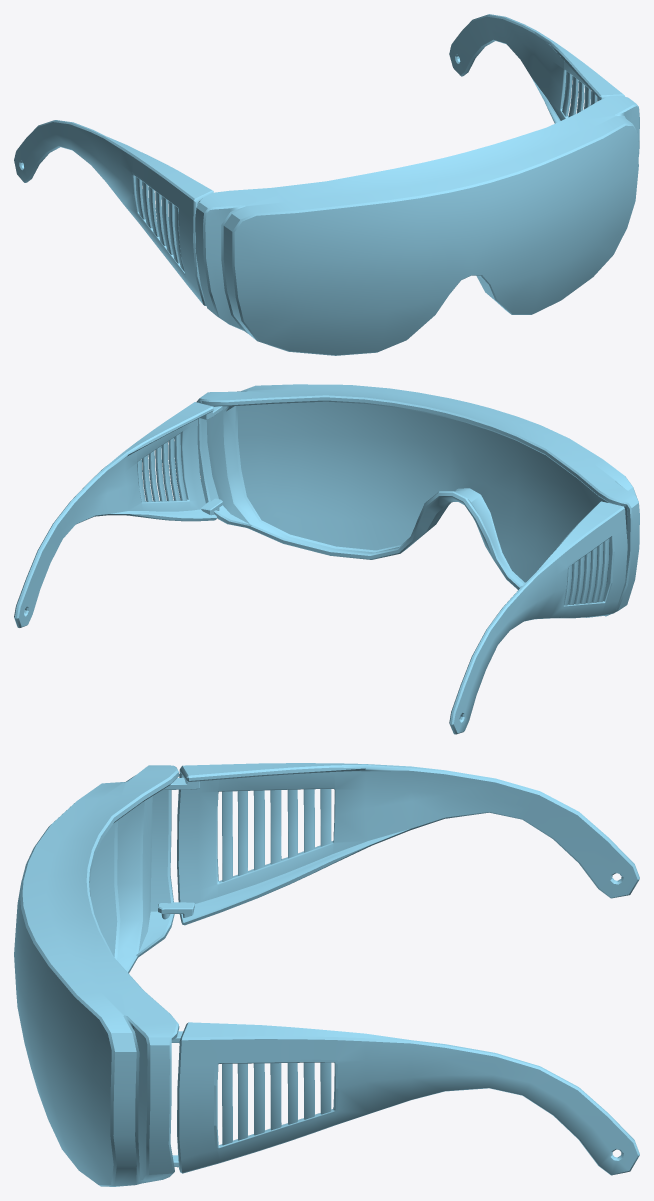
File: FBX_Mechnic_SafetyGlasses.fbx
The picture shows the model from 3 angles, top to bottom: view 1: azimuth 30°, elevation 25°; view 2: azimuth 150°, elevation 25°; view 3: azimuth 270°, elevation 25°; orthographic projection. The views are drawn at different scales.
Visible parts, largest first — view 1: SM_Mechnic_SafetyGlasses; view 2: SM_Mechnic_SafetyGlasses; view 3: SM_Mechnic_SafetyGlasses.
Part boxes in pixels (x1,y1,x2,y2): SM_Mechnic_SafetyGlasses: (14,14,639,355); SM_Mechnic_SafetyGlasses: (14,384,639,734); SM_Mechnic_SafetyGlasses: (14,763,639,1186).
Size of the model in its own units: 17.54 by 6.47 by 16.57.
